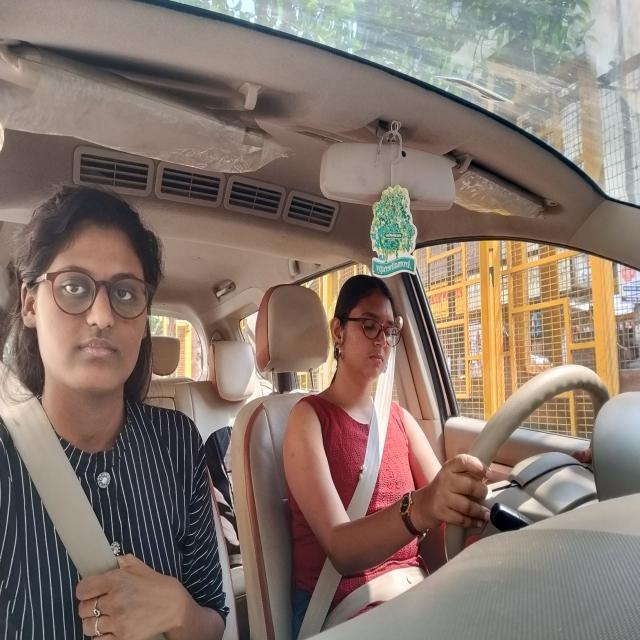drowsy: (329, 263, 414, 426)
person: (17, 161, 166, 422)
